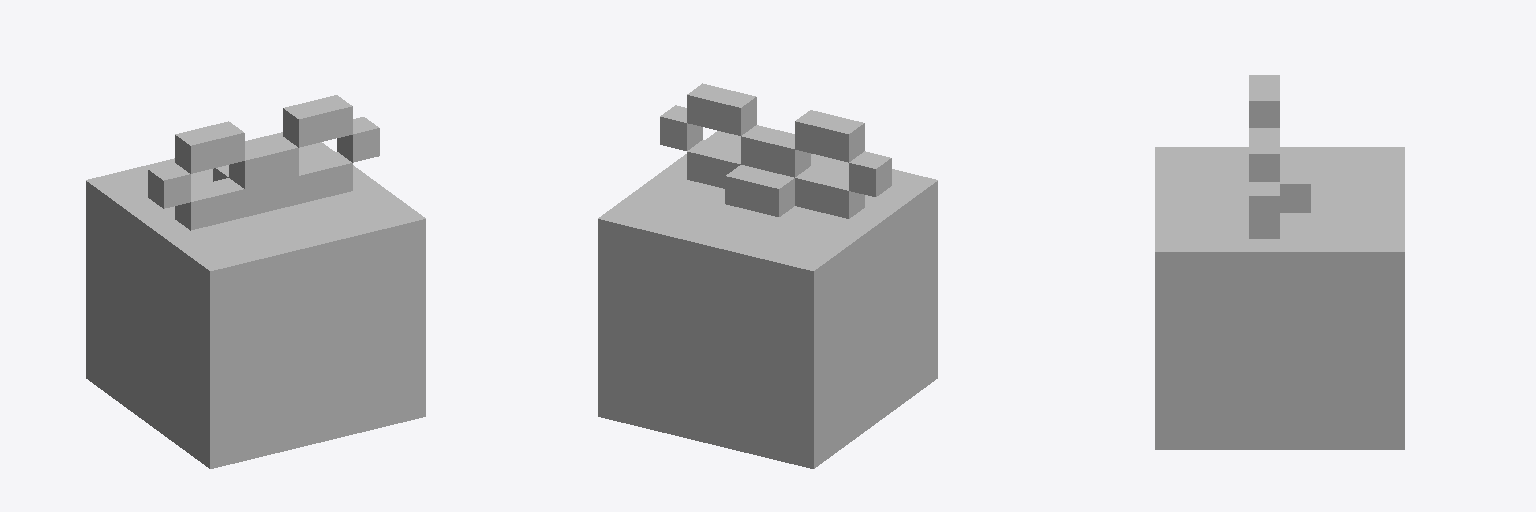
Rendered from Big_Gift_1.obj.
3 views of the same model, side by side, from view 1: azimuth 30°, elevation 25°; view 2: azimuth 150°, elevation 25°; view 3: azimuth 270°, elevation 25° (orthographic).
Visible parts, largest first — view 1: object 1; view 2: object 1; view 3: object 1.
Boxes of the visible parts, x1,y1,x2,y2 form: object 1: [86, 95, 425, 468]; object 1: [598, 83, 937, 468]; object 1: [1155, 75, 1404, 449].
Bounding box in the file's own units: 0.8 × 1 × 0.8.